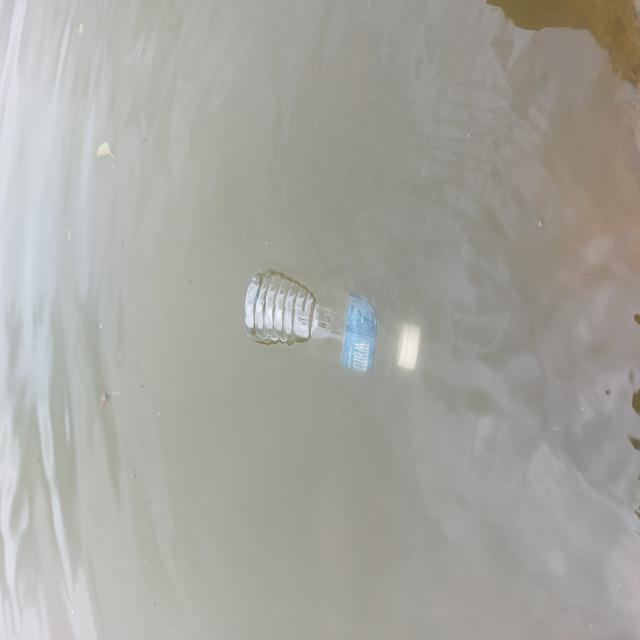waterbottle: (238, 256, 438, 416)
